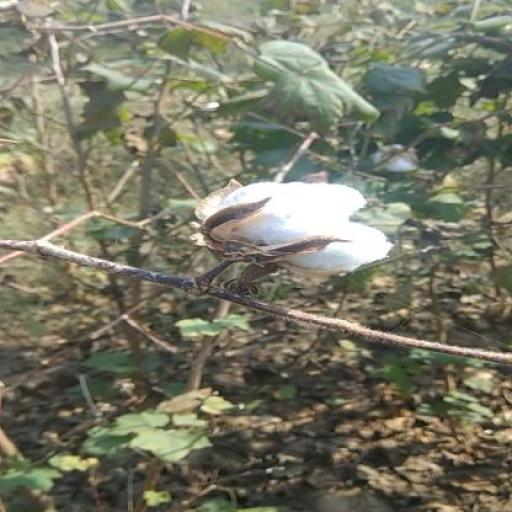cotton_ready: (162, 178, 402, 323)
